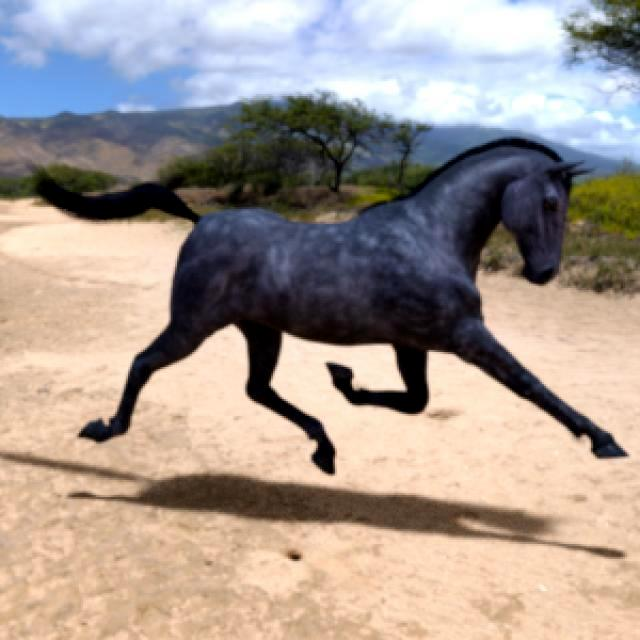horse: (39, 141, 626, 473)
